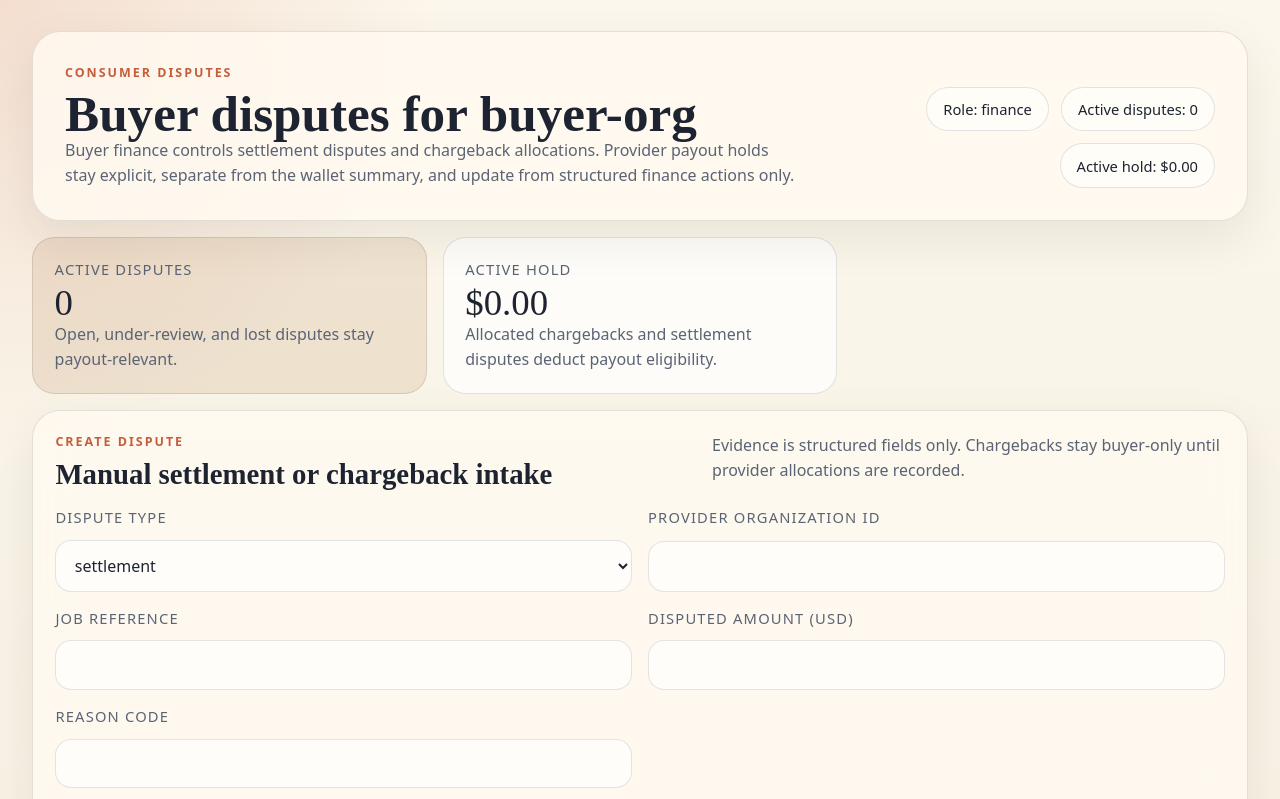
it: ConsumerDisputeDashboardScreen › submits a settlement dispute and refreshes the dashboard snapshot
Type "provider-org" into the field labelled "Provider organization ID" at (936, 566), box 648,541 -> 1225,592
Type "job_001" into the field labelled "Job reference" at (344, 665), box 55,640 -> 632,690
Type "4.00" into the field labelled "Disputed amount" at (936, 665), box 648,640 -> 1225,690
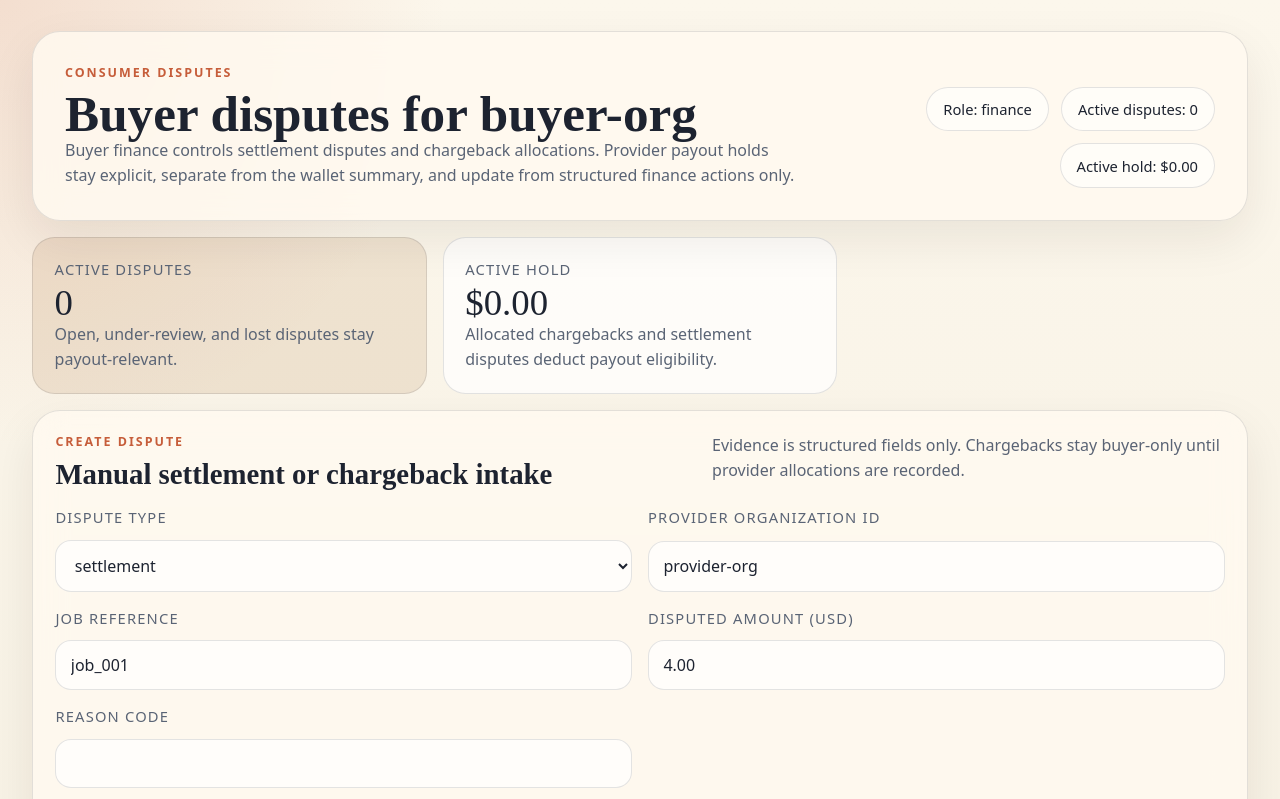
Type "quality_miss" into the field labelled "Reason code" at (344, 764), box 55,739 -> 632,788
(page scrolled)
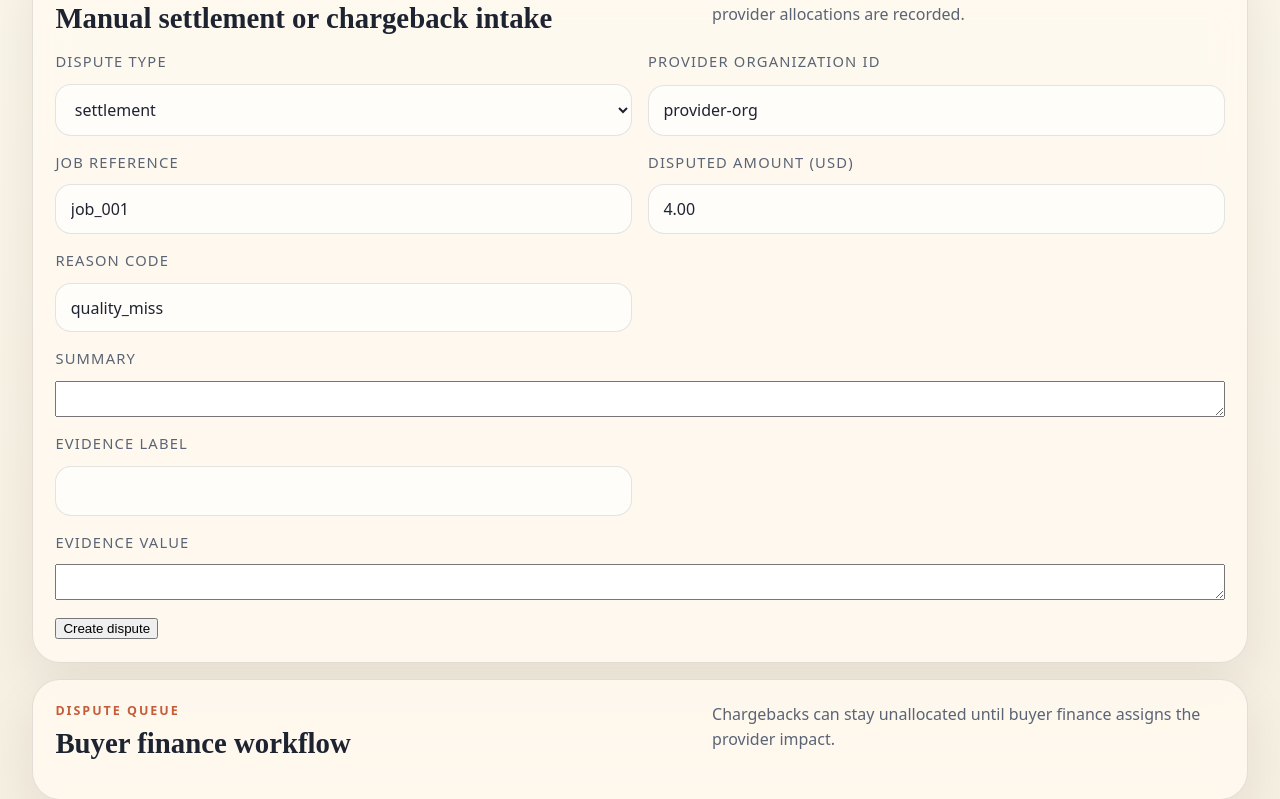
Type "Provider missed the agreed latency target." into the text box named "Dispute summary" at (640, 399), box 55,381 -> 1225,417
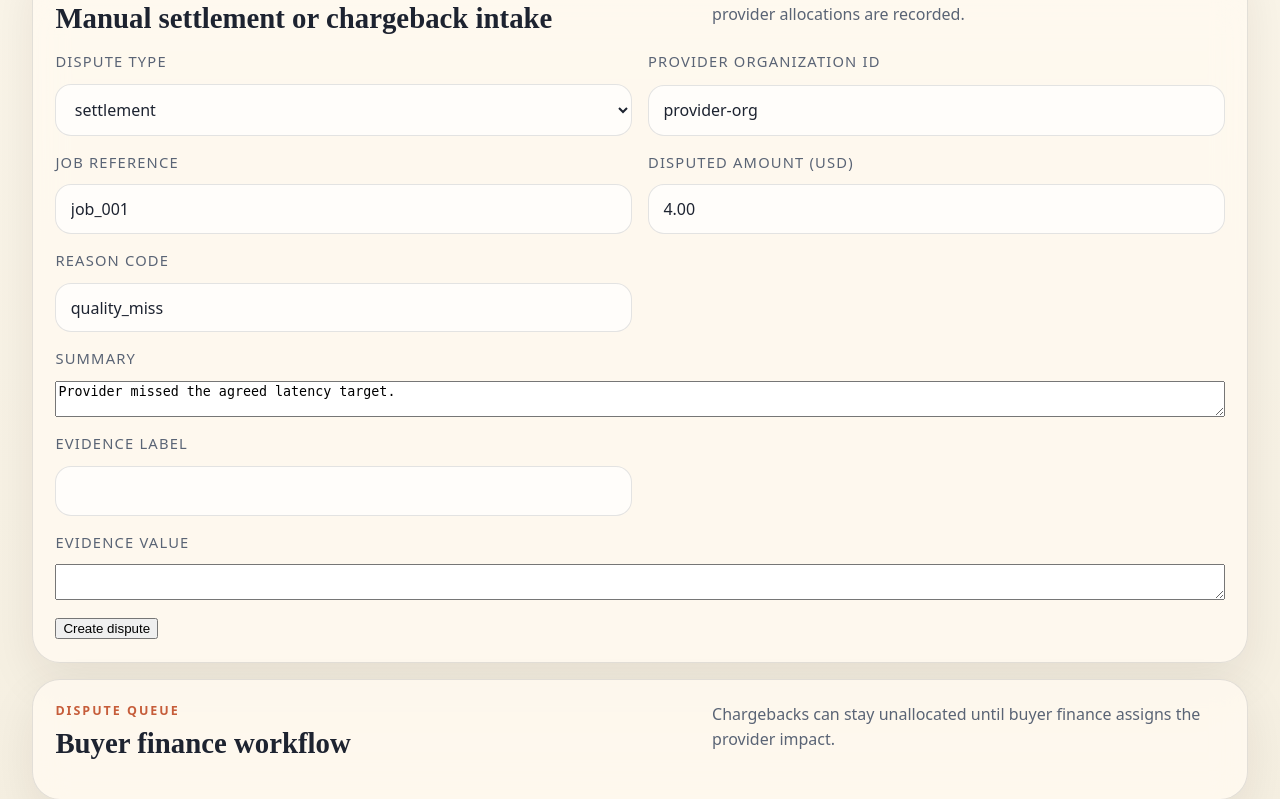
Type "log_excerpt" into the field labelled "Evidence label" at (344, 491), box 55,466 -> 632,516
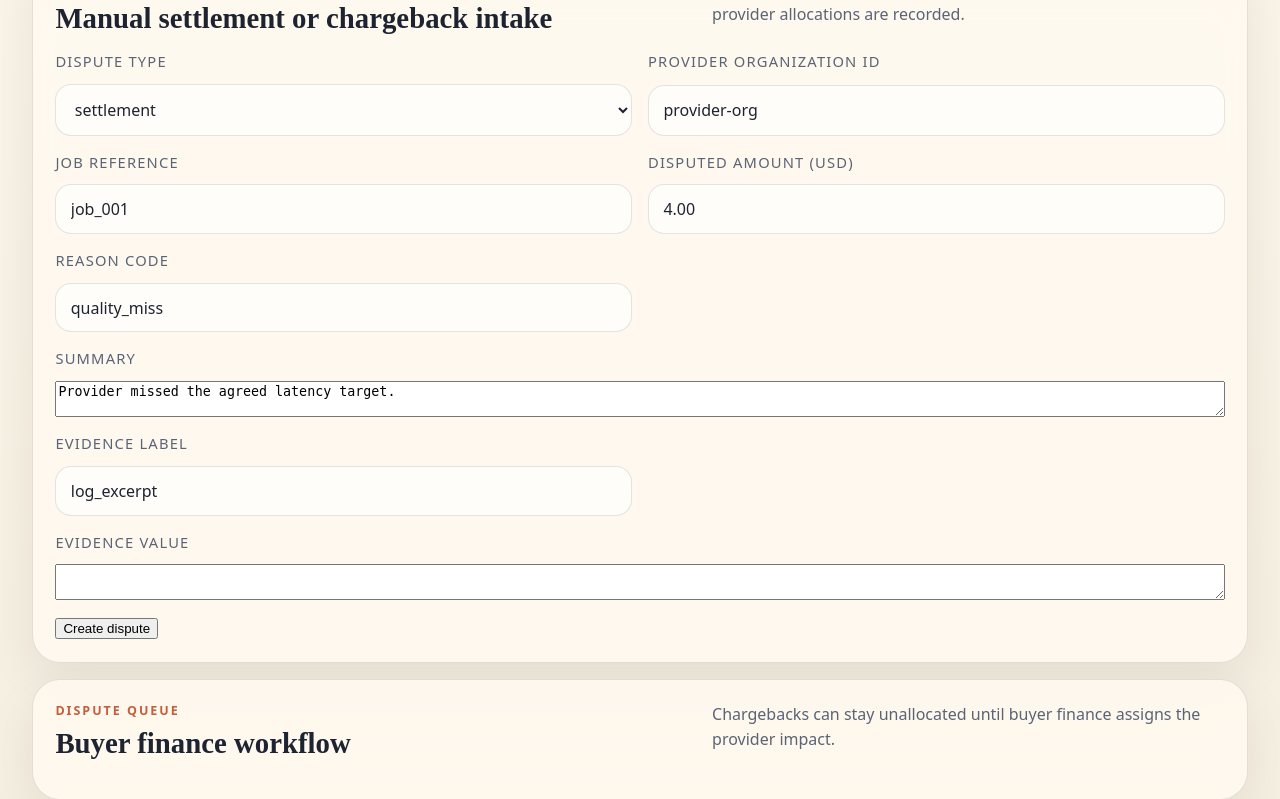
Type "p95 latency exceeded the buyer-approved SLA window" into the text box labelled "Evidence value" at (640, 582), box 55,564 -> 1225,600
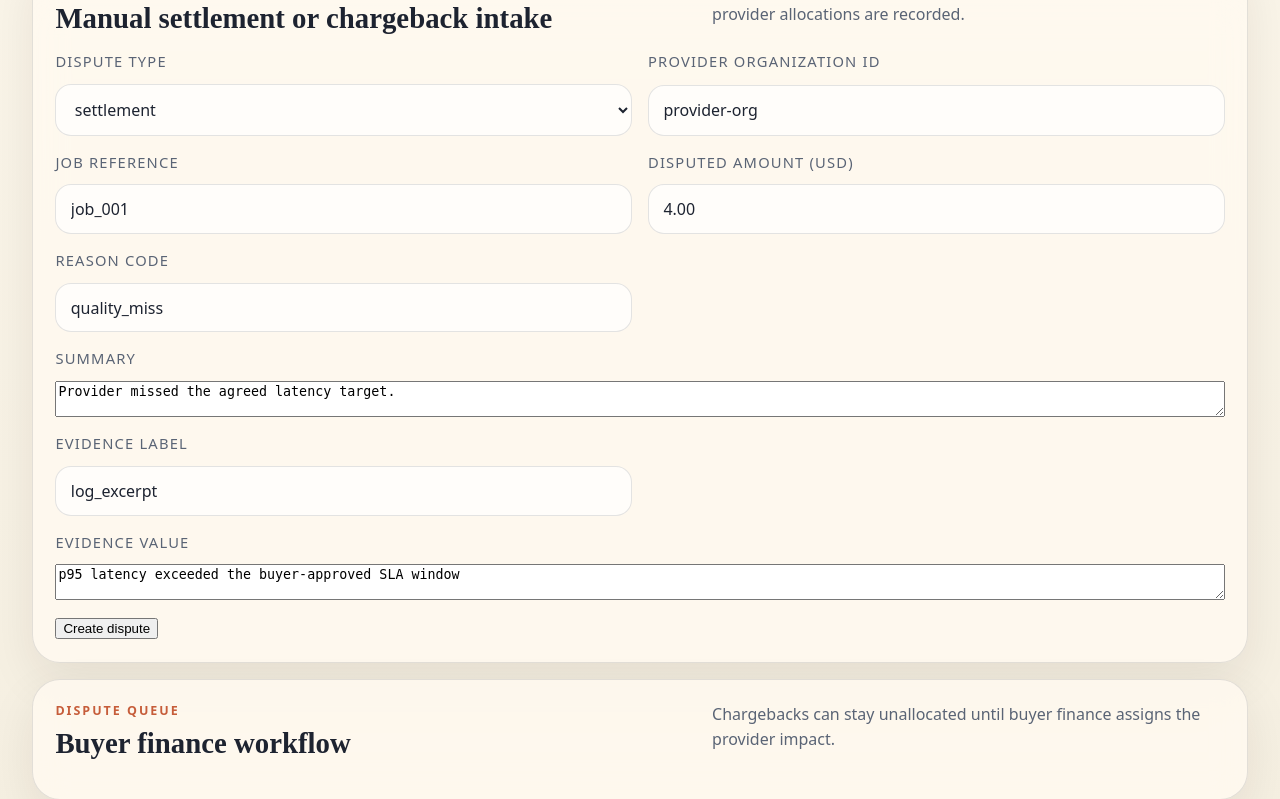
Submit the form from the button "Create dispute", box 55,618 -> 158,639
(page scrolled)
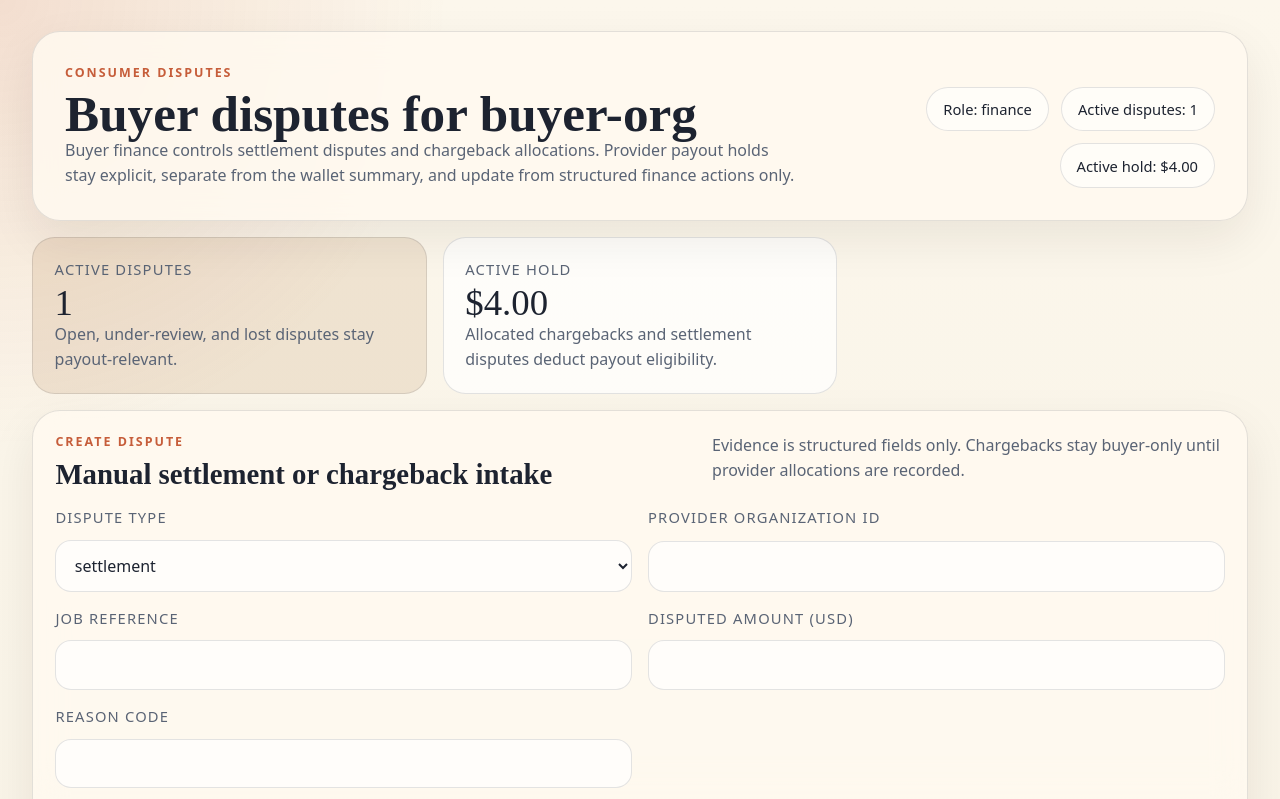
Result: the text "Active disputes: 1" is shown at 1061,87 -> 1215,131
